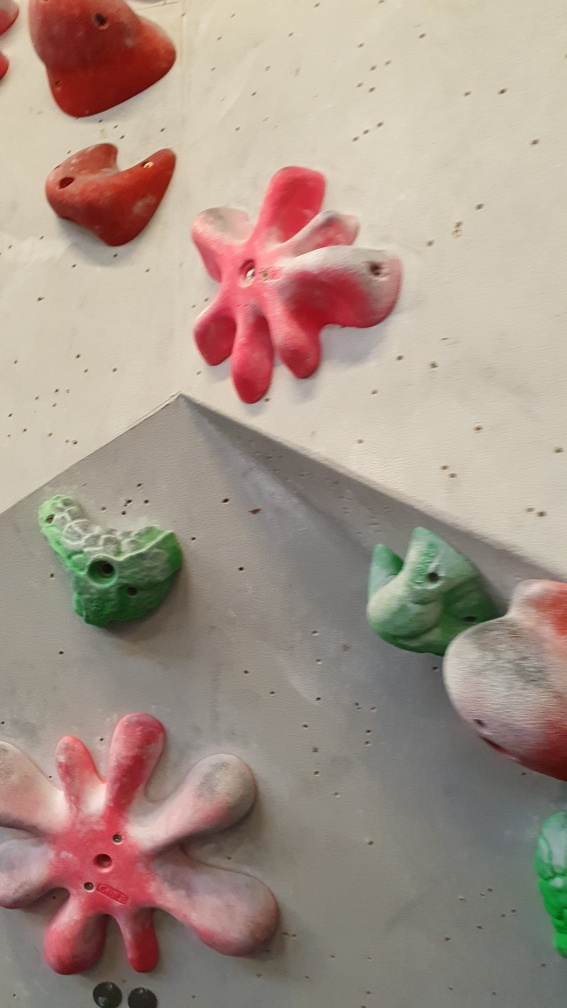Hand Start: (91, 977, 122, 1007), (126, 985, 156, 1007)
Jug: (361, 520, 501, 660)
Octopus Pinch: (1, 710, 283, 981), (181, 160, 405, 405)
Sloper: (442, 572, 567, 786)
